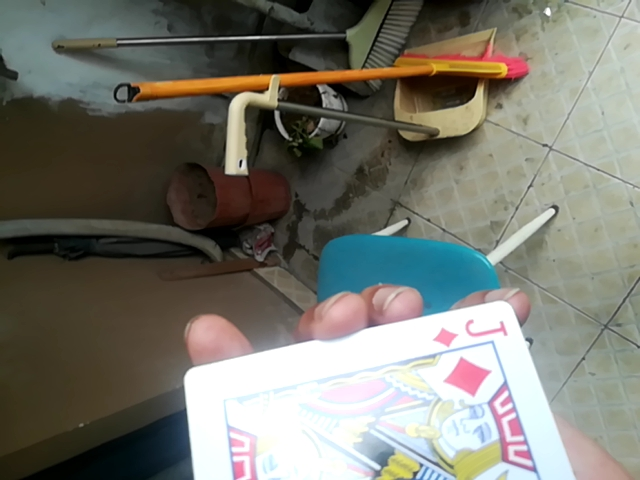fk j: (175, 293, 583, 477)
